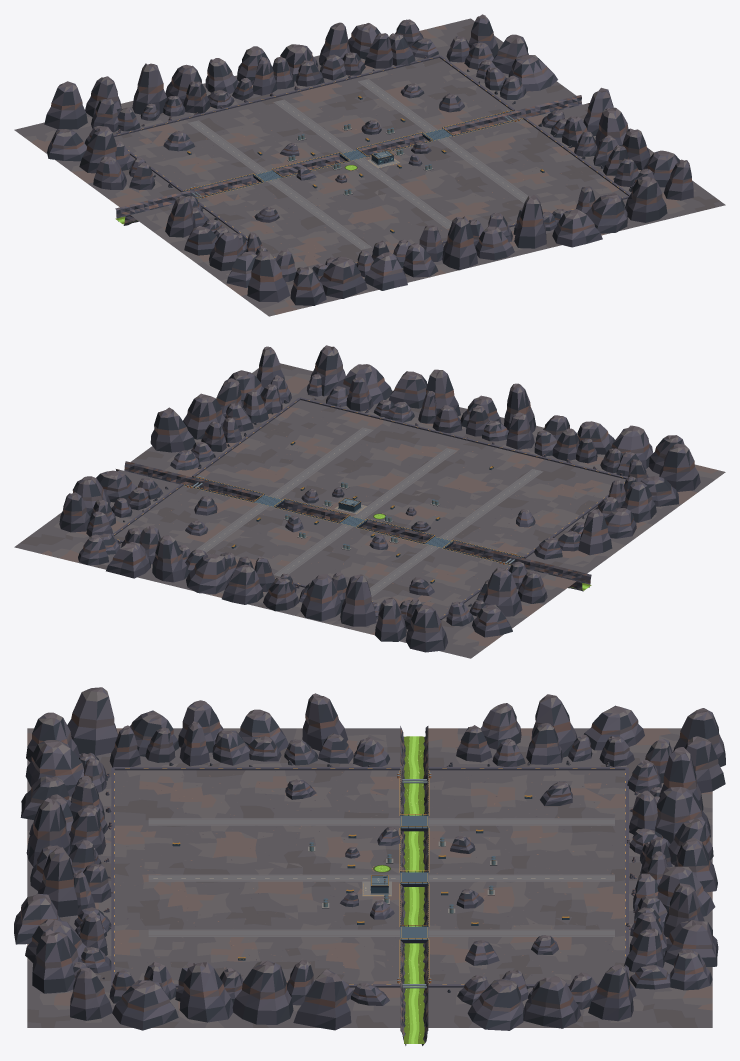
Rendered from AcidQuarry.fbx.
The picture shows the model from 3 angles, top to bottom: view 1: azimuth 30°, elevation 25°; view 2: azimuth 150°, elevation 25°; view 3: azimuth 270°, elevation 25°; orthographic projection. The views are drawn at different scales.
Visible parts, largest first — view 1: Quarry Floor, Quarry Walls and Equipment, Basalt Ravine and Bridges; view 2: Quarry Floor, Quarry Walls and Equipment, Basalt Ravine and Bridges; view 3: Quarry Floor, Quarry Walls and Equipment, Basalt Ravine and Bridges, Acid.
Boxes of the visible parts, x1=… form: Quarry Floor: x1=14, y1=18, x2=725, y2=316; Quarry Walls and Equipment: x1=44, y1=14, x2=693, y2=305; Basalt Ravine and Bridges: x1=113, y1=55, x2=630, y2=264; Quarry Floor: x1=14, y1=363, x2=725, y2=658; Quarry Walls and Equipment: x1=59, y1=345, x2=700, y2=652; Basalt Ravine and Bridges: x1=112, y1=397, x2=627, y2=619; Quarry Floor: x1=27, y1=728, x2=712, y2=1027; Quarry Walls and Equipment: x1=14, y1=687, x2=725, y2=1030; Basalt Ravine and Bridges: x1=111, y1=726, x2=628, y2=1045; Acid: x1=374, y1=736, x2=424, y2=1043.
Bounding box in the file's own units: 31200 × 3633 × 30537.
2 materials, 2 textured.
